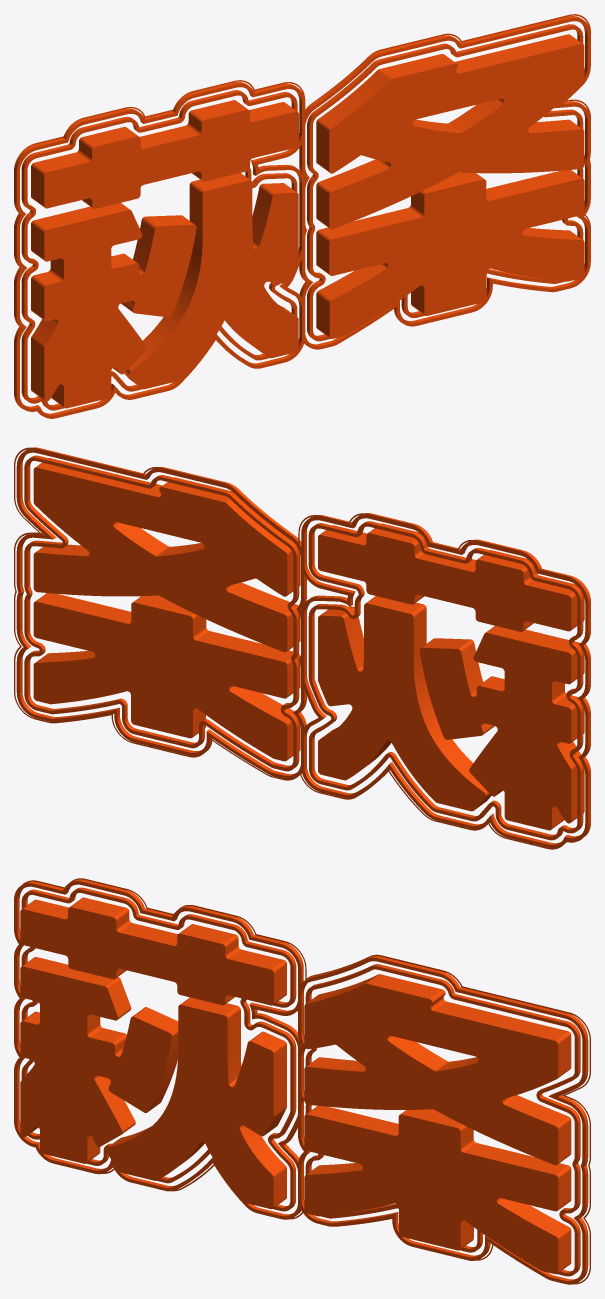
3 views of the same model, one above another, from view 1: azimuth 30°, elevation 25°; view 2: azimuth 150°, elevation 25°; view 3: azimuth 330°, elevation 25° (orthographic).
Visible parts, largest first — view 1: Curve.437; view 2: Curve.437; view 3: Curve.437.
Boxes of the visible parts, x1,y1,x2,y2 form: Curve.437: (14,14,590,418); Curve.437: (14,447,590,849); Curve.437: (14,878,590,1284).
Bounding box in the file's own units: 0.2527 × 0.1225 × 0.01.
